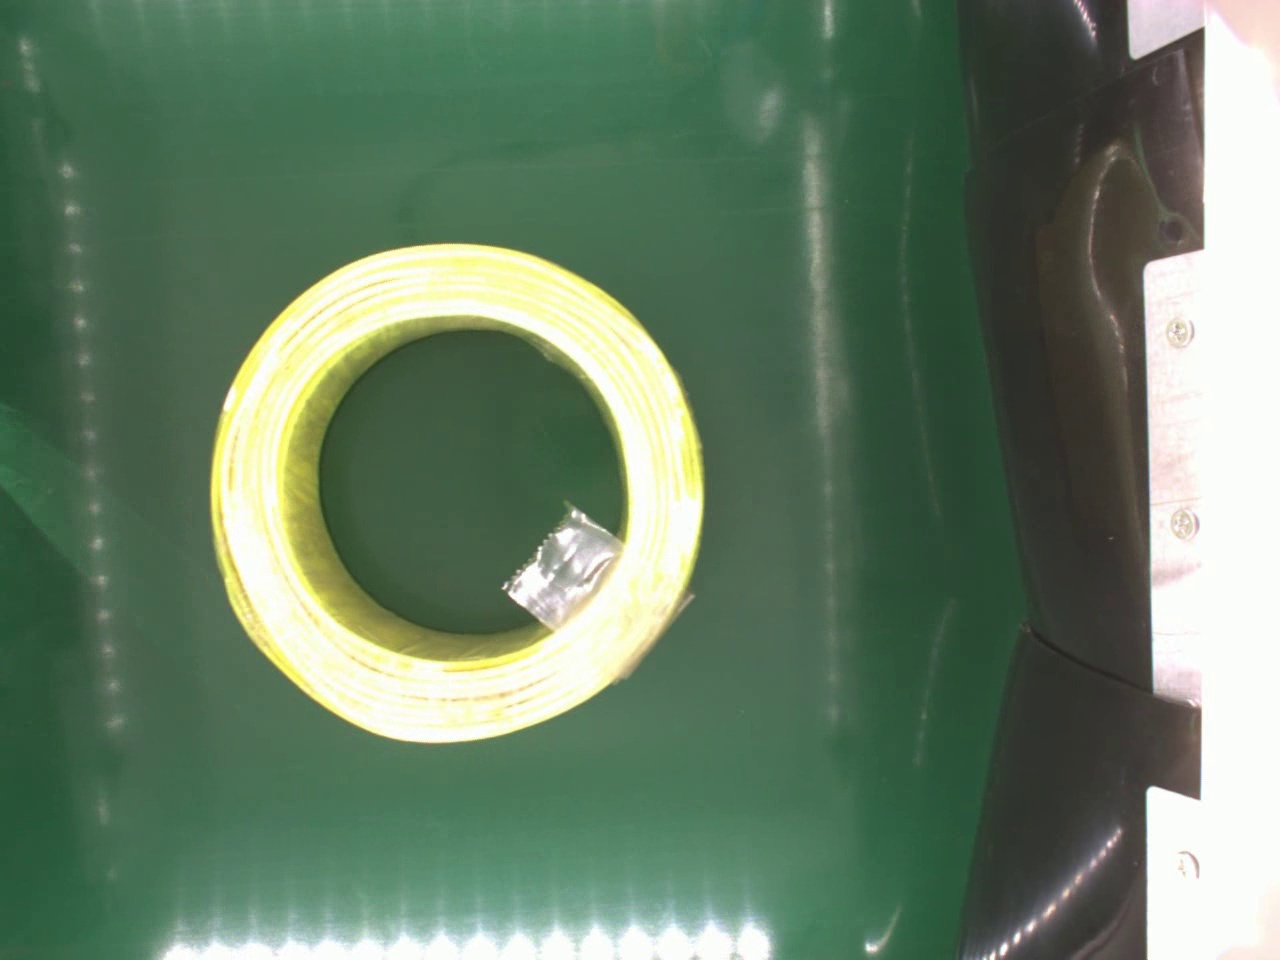yellow: (210, 235, 711, 748)
